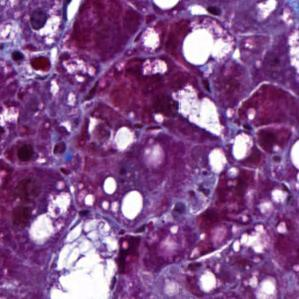ballooning: (51, 214, 123, 296)
